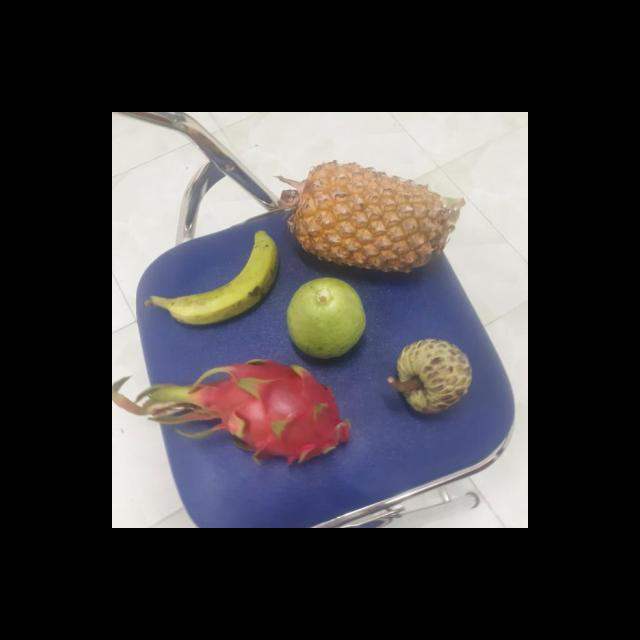Sakya fruit: (393, 338, 475, 414)
banana: (167, 230, 286, 330)
guava: (286, 276, 370, 360)
pineapple: (290, 165, 454, 276)
pitaya: (206, 358, 350, 464)
